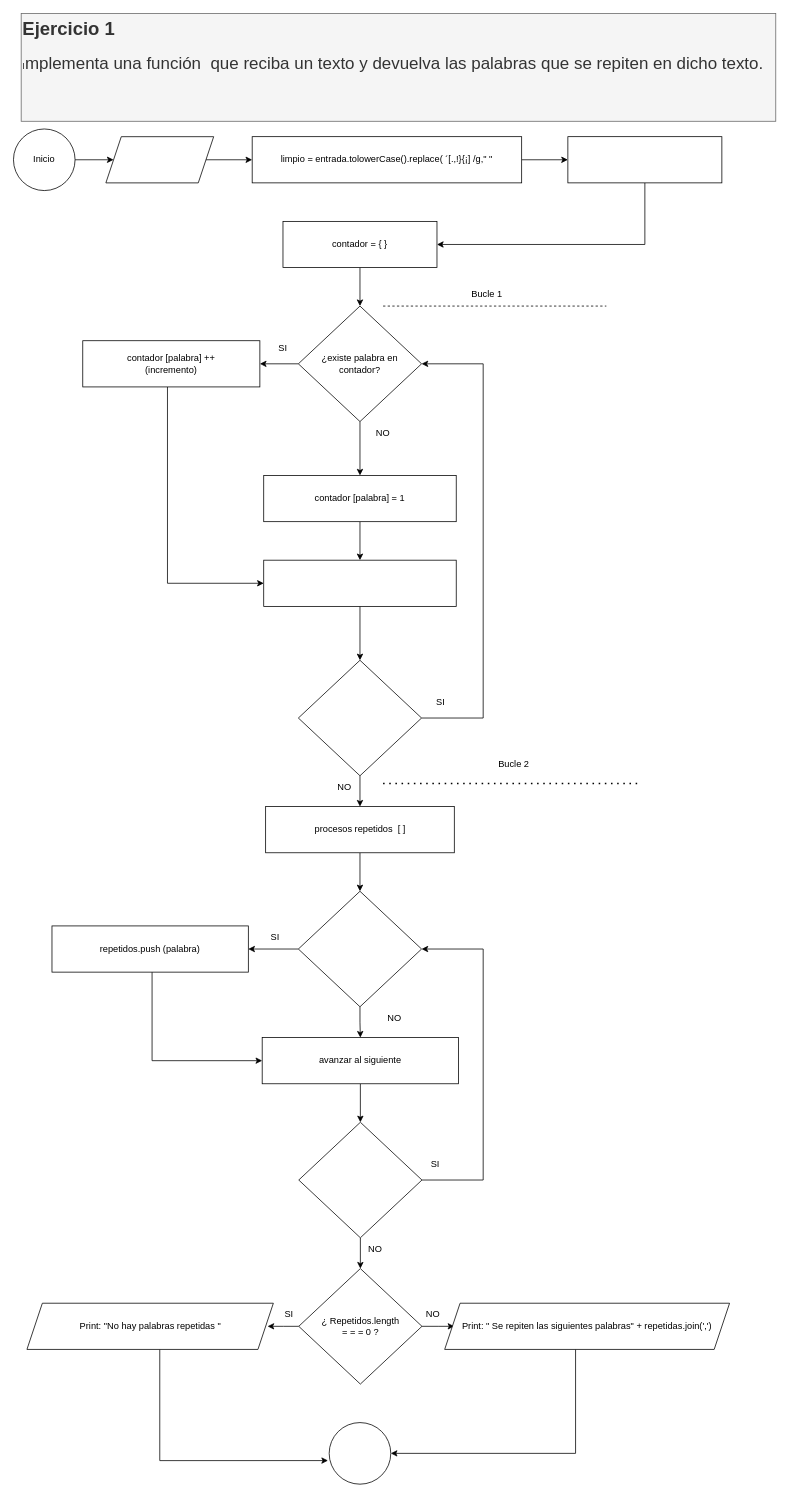
Some shapes in this 789 by 1498 pixel diagram are drawn without their labels. Each missing label, with the centre of its shape:
"avanzar a la siguiente palabra" belongs at point 359,582.
"Fin" belongs at point 359,1453.
"palabras = limpio.split(/\s+/)" belongs at point 644,159.
"Pedir texto" belongs at point 159,159.
"¿ contador [palabra] > 1 ?" belongs at point 360,949.
"¿Quedan más en contador ?" belongs at point 360,1180.
"¿Quédan más palabras?" belongs at point 360,718.
